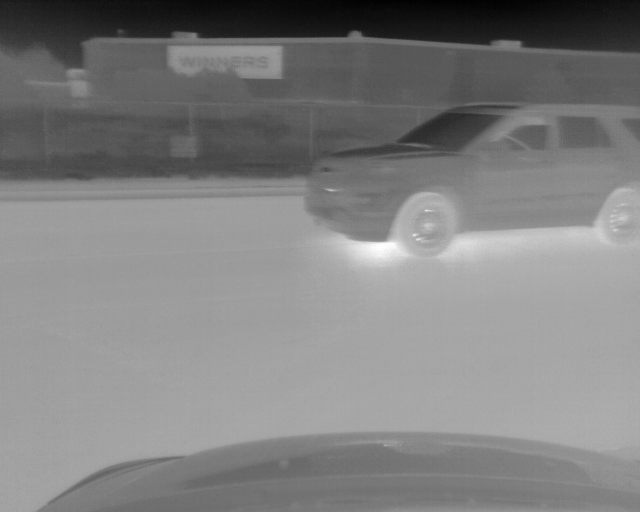car: (303, 101, 640, 258)
